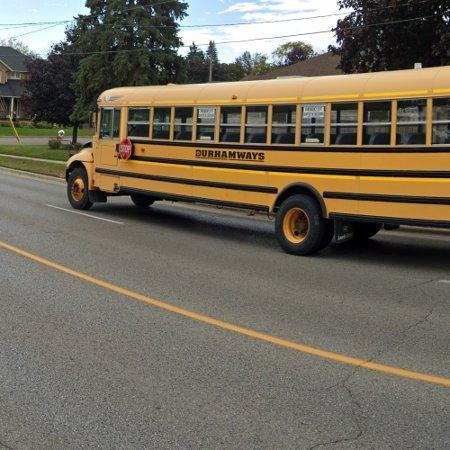buses: (66, 66, 450, 255)
